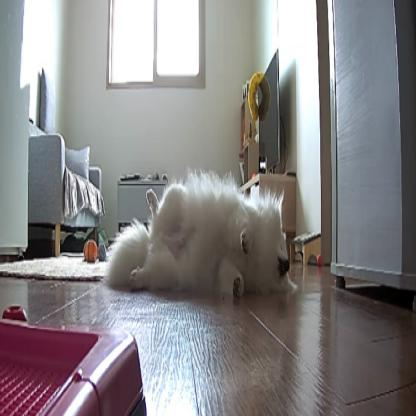dog: (102, 171, 300, 282)
